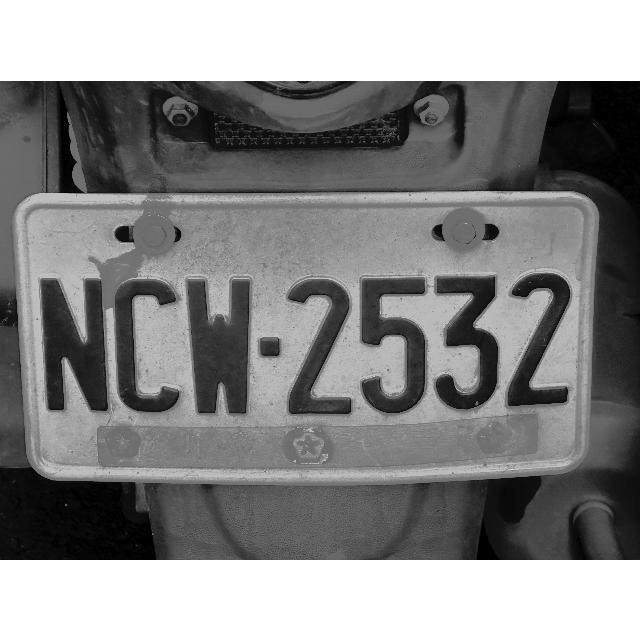-: (256, 333, 286, 361)
2: (282, 273, 356, 427), (506, 266, 572, 416)
3: (434, 270, 502, 412)
5: (359, 272, 431, 416)
C: (112, 272, 182, 416)
N: (38, 271, 114, 421)
W: (184, 273, 253, 423)
